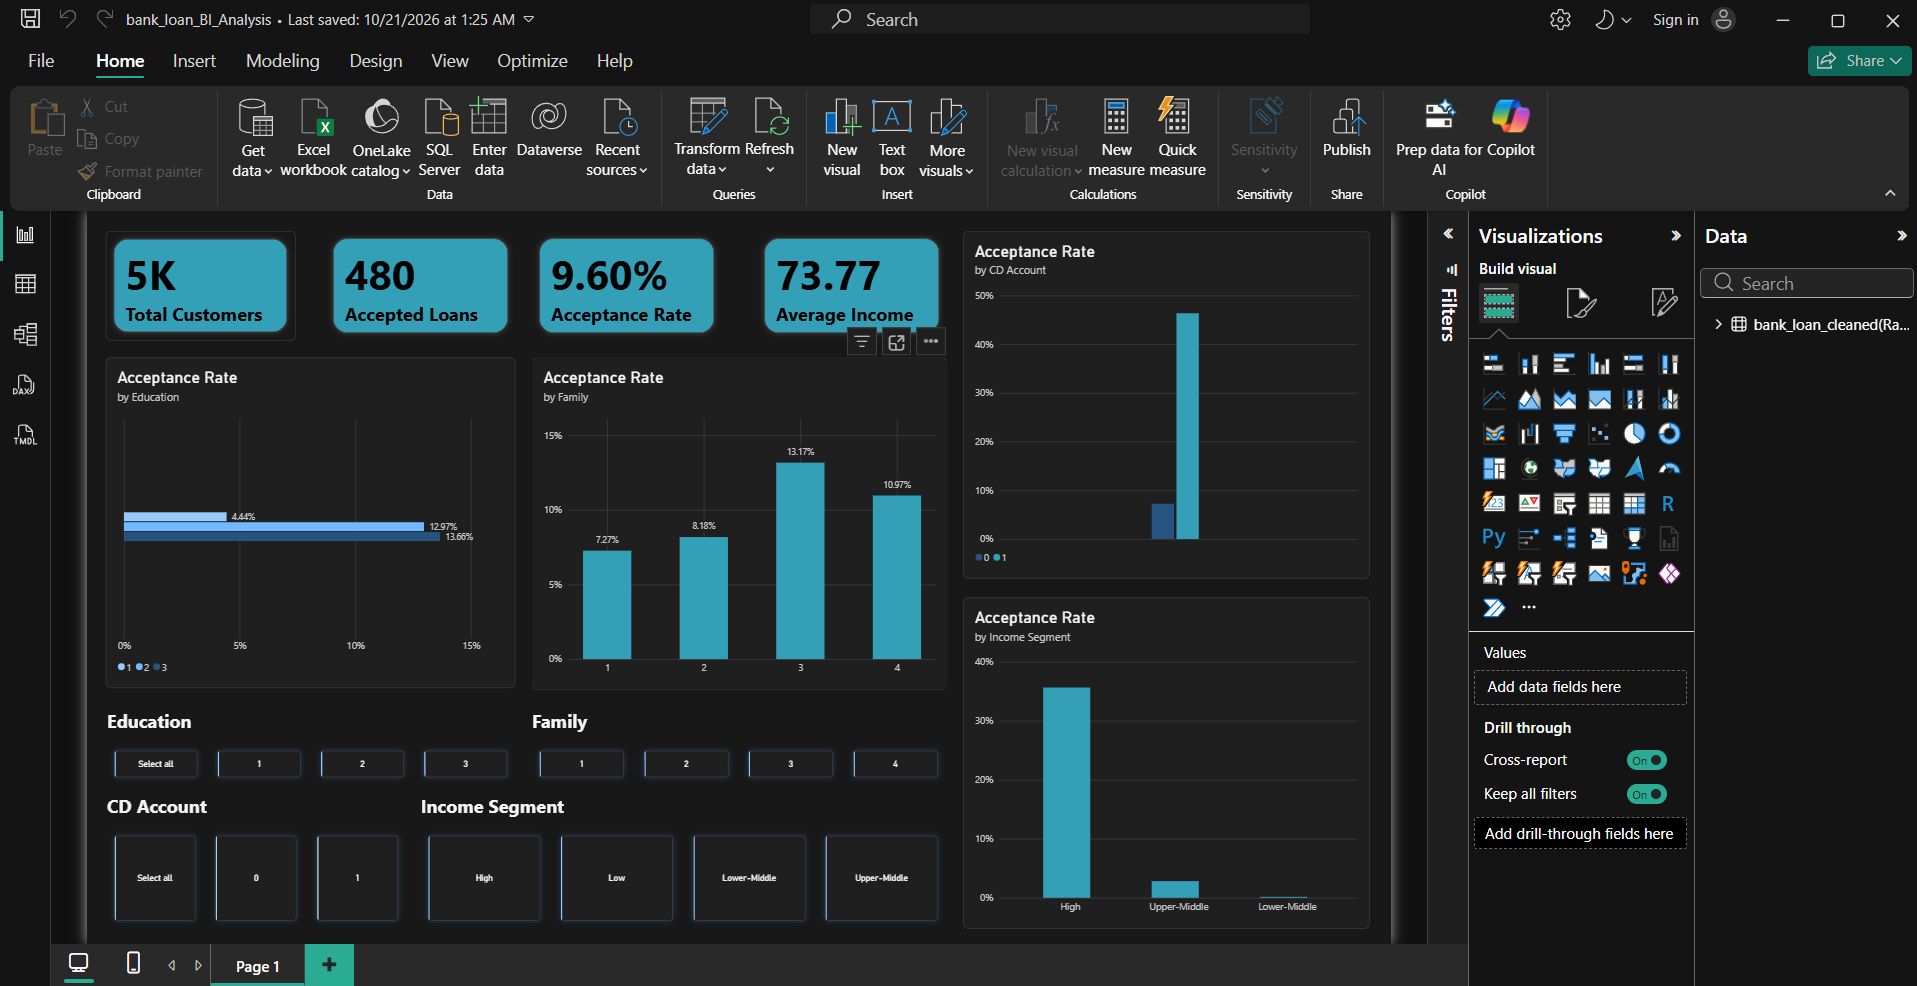

Layout of this report page (visuals, bound fields, positions):
{"tool":"powerbi","page":{"name":"Page 1","canvas":[1920,1080],"ordinal":0},"visuals":[{"type":"cardVisual","fields":{"Data":["bank_loan_cleaned(Raw Data).Total Customers"]},"box":[27.6,29.4,279.8,162],"z":0},{"type":"cardVisual","fields":{"Data":["bank_loan_cleaned(Raw Data).Accepted Loans"]},"box":[351.5,29.4,279.8,162],"z":1000},{"type":"cardVisual","fields":{"Data":["bank_loan_cleaned(Raw Data).Acceptance Rate"]},"box":[655.2,29.4,279.8,162],"z":2000},{"type":"cardVisual","fields":{"Data":["bank_loan_cleaned(Raw Data).Average Income"]},"box":[986.5,29.4,279.8,162],"z":3000},{"type":"clusteredBarChart","fields":{"Series":["bank_loan_cleaned(Raw Data).Education"],"Y":["bank_loan_cleaned(Raw Data).Acceptance Rate"]},"box":[27.6,215.3,602.9,487.5],"z":5000},{"type":"lineClusteredColumnComboChart","fields":{"Category":["bank_loan_cleaned(Raw Data).Family"],"Y":["bank_loan_cleaned(Raw Data).Acceptance Rate"]},"box":[655.2,215.3,611.5,489.6],"z":6000},{"type":"clusteredColumnChart","fields":{"Series":["bank_loan_cleaned(Raw Data).CD Account"],"Y":["bank_loan_cleaned(Raw Data).Acceptance Rate"]},"box":[1290.2,29.4,598.2,511.7],"z":7000},{"type":"advancedSlicerVisual","fields":{"Values":["bank_loan_cleaned(Raw Data).Education"]},"box":[29.4,732.5,601.8,112.3],"z":7001},{"type":"advancedSlicerVisual","fields":{"Values":["bank_loan_cleaned(Raw Data).Family"]},"box":[655.2,732.5,611,112.3],"z":7002},{"type":"advancedSlicerVisual","fields":{"Values":["bank_loan_cleaned(Raw Data).Income Segment"]},"box":[491.4,857.7,774.9,198.8],"z":7003},{"type":"advancedSlicerVisual","fields":{"Values":["bank_loan_cleaned(Raw Data).CD Account"]},"box":[29.4,857.7,439.9,198.8],"z":7004},{"type":"clusteredColumnChart","fields":{"Category":["bank_loan_cleaned(Raw Data).Income Segment"],"Y":["bank_loan_cleaned(Raw Data).Acceptance Rate"]},"box":[1290.2,568.7,598.2,487.7],"z":7005}]}

Visuals, with their boxes on the page's 1920x1080 design canvas (x1, y1, x2, y2). These are canvas units, not pixel positions in the 1917x986 screenshot, which may show the page scaled, cropped or inside an application window:
cardVisual - bank_loan_cleaned(Raw Data).Total Customers: 28/29/307/191
cardVisual - bank_loan_cleaned(Raw Data).Accepted Loans: 352/29/631/191
cardVisual - bank_loan_cleaned(Raw Data).Acceptance Rate: 655/29/935/191
cardVisual - bank_loan_cleaned(Raw Data).Average Income: 986/29/1266/191
clusteredBarChart - bank_loan_cleaned(Raw Data).Education x bank_loan_cleaned(Raw Data).Acceptance Rate: 28/215/630/703
lineClusteredColumnComboChart - bank_loan_cleaned(Raw Data).Family x bank_loan_cleaned(Raw Data).Acceptance Rate: 655/215/1267/705
clusteredColumnChart - bank_loan_cleaned(Raw Data).CD Account x bank_loan_cleaned(Raw Data).Acceptance Rate: 1290/29/1888/541
advancedSlicerVisual - bank_loan_cleaned(Raw Data).Education: 29/732/631/845
advancedSlicerVisual - bank_loan_cleaned(Raw Data).Family: 655/732/1266/845
advancedSlicerVisual - bank_loan_cleaned(Raw Data).Income Segment: 491/858/1266/1056
advancedSlicerVisual - bank_loan_cleaned(Raw Data).CD Account: 29/858/469/1056
clusteredColumnChart - bank_loan_cleaned(Raw Data).Income Segment x bank_loan_cleaned(Raw Data).Acceptance Rate: 1290/569/1888/1056
